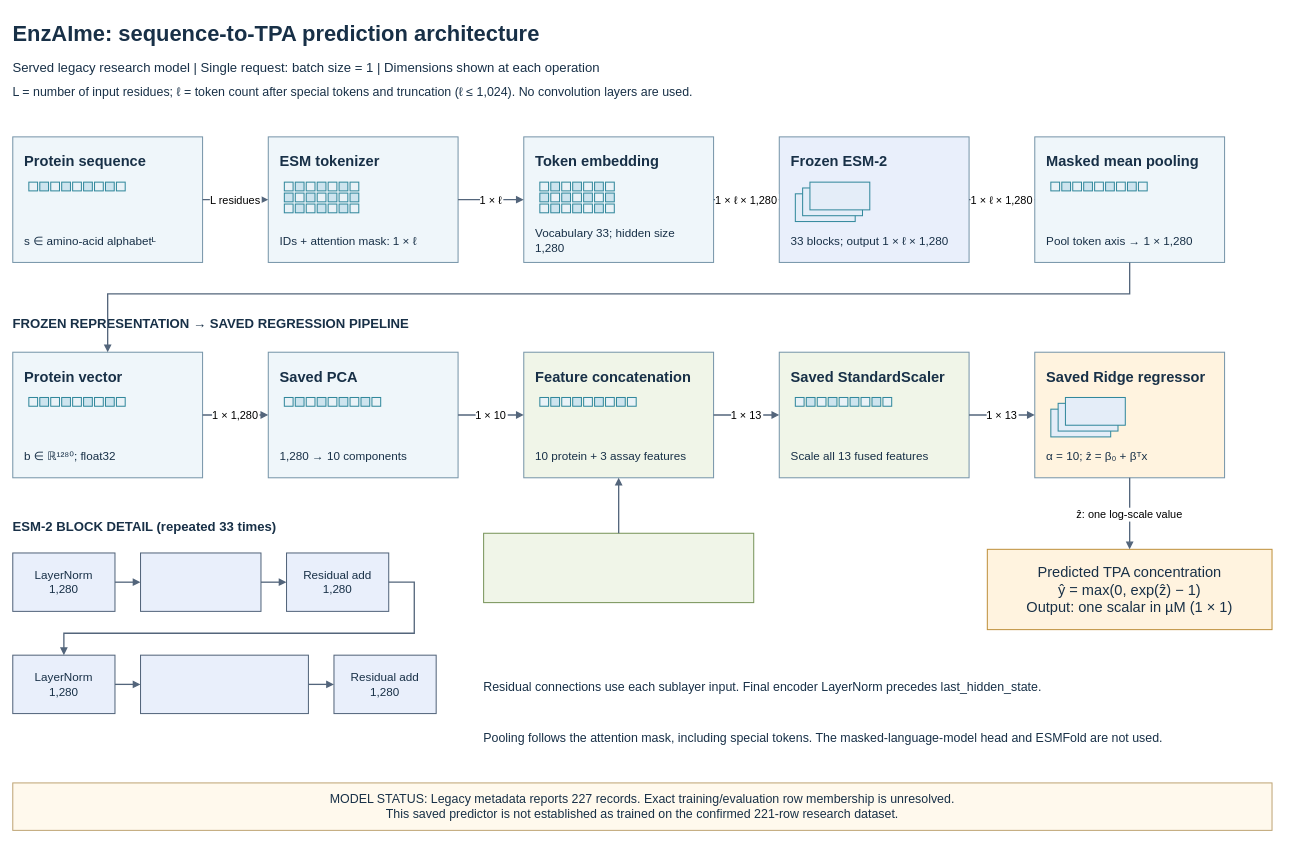
Some shapes in this 1296 by 843 pixel diagram are drawn without their labels. Here are the shapes that lost their labels. From the top down, the box of each, then its label:
(140, 552, 261, 612): Self-attention 20 heads × 64 Rotary positions
(483, 532, 754, 603): Assay conditions e = [temperature °C, pH, duration h] Shape: 1 × 3
(140, 654, 309, 714): Feed-forward + GELU 1,280 → 5,120 → 1,280
